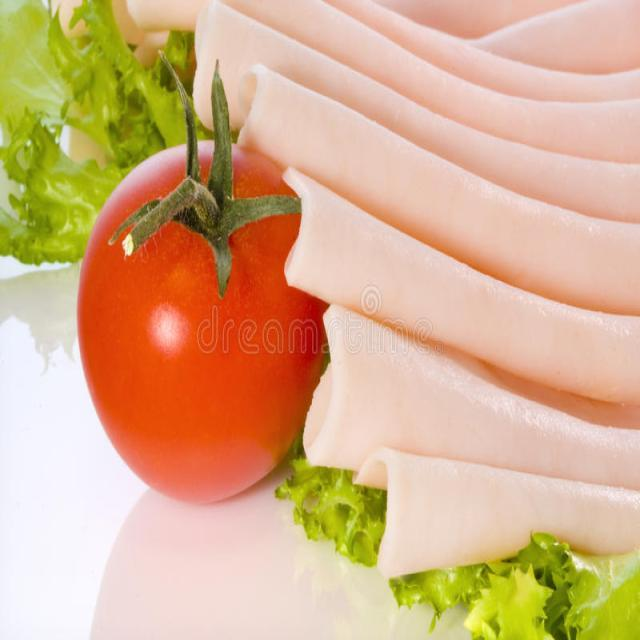kirmizi: (74, 116, 338, 508)
